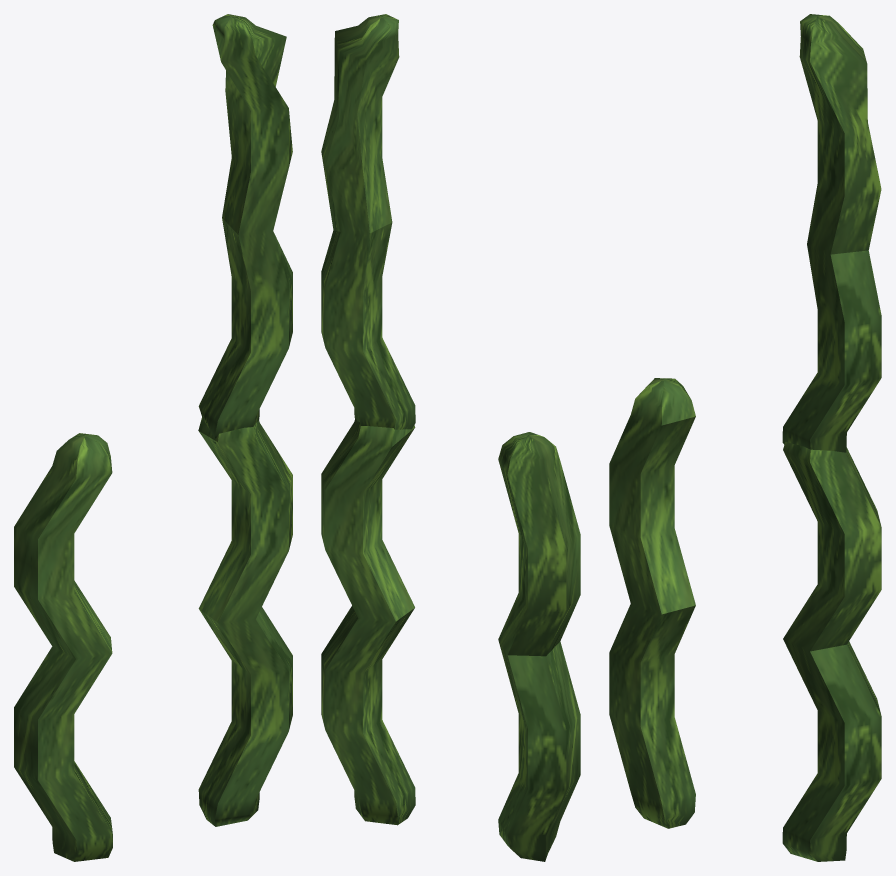
The model's file is see weed moving.fbx.
3 renders of one model, left to right at view 1: azimuth 30°, elevation 25°; view 2: azimuth 150°, elevation 25°; view 3: azimuth 330°, elevation 25°, orthographic. The views are drawn at different scales.
Parts seen in each view (by area): view 1: stem, stem_1; view 2: stem, stem_1; view 3: stem, stem_1.
Boxes of the visible parts, left/top/right/bottom form: stem: left=198, top=14, right=292, bottom=826; stem_1: left=14, top=433, right=112, bottom=861; stem: left=321, top=14, right=415, bottom=825; stem_1: left=498, top=432, right=580, bottom=861; stem: left=782, top=14, right=881, bottom=861; stem_1: left=609, top=378, right=695, bottom=828.
Bounding box in the file's own units: 624 × 1828 × 168.
Materials: 1 (1 with a texture image).
